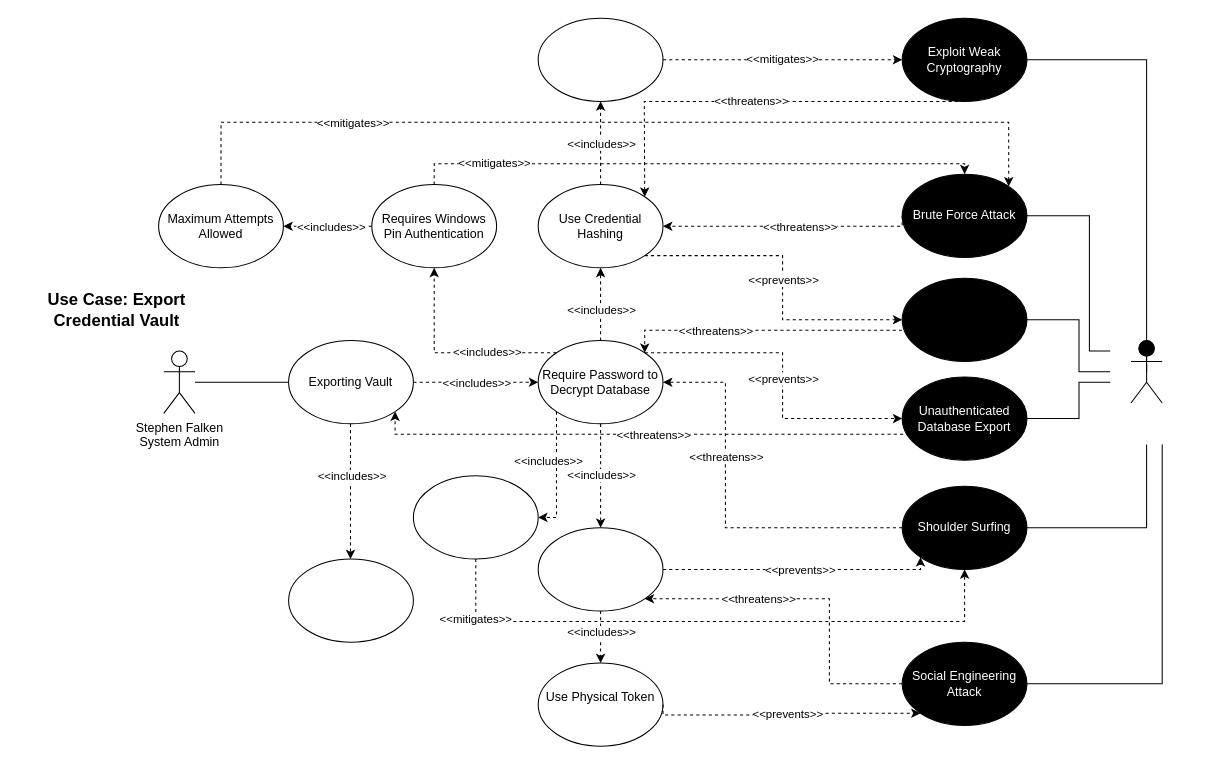
This 1213x764 diagram has some shape labels left out. Here are the shapes that lost their labels. From the top down, the centre of each, then its label:
At pixel 600 59: "Use Strong Cryptography Standards".
At pixel 964 319: "Steal Plain Text DB Password".
At pixel 1146 371: "David Lightman Black Hat Hacker".
At pixel 475 517: "Blanking Password Field".
At pixel 600 569: "Use MFA".
At pixel 350 600: "Encrypt Exported Vault".
